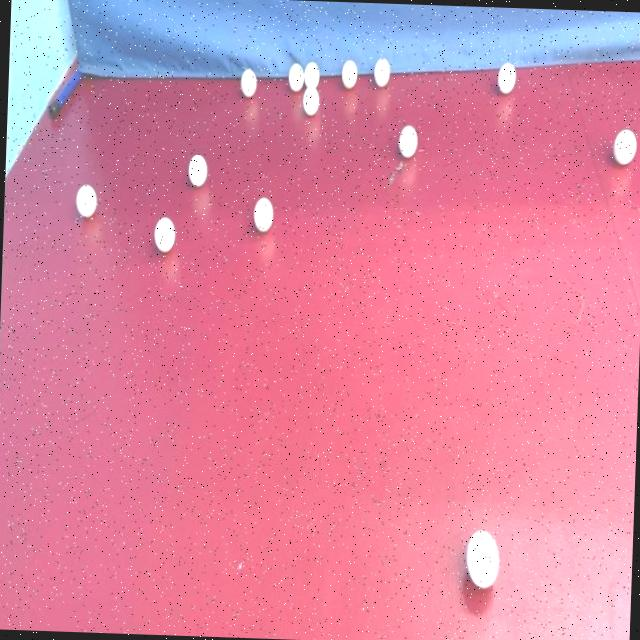ping-pong-ball: (462, 526, 500, 591), (609, 124, 639, 168), (71, 180, 98, 220), (183, 148, 208, 191), (250, 192, 275, 234), (151, 213, 177, 253), (394, 120, 418, 160), (493, 58, 516, 96), (236, 64, 258, 100), (370, 52, 391, 89), (338, 56, 360, 90), (300, 82, 318, 117), (285, 61, 302, 93), (302, 57, 318, 88)
